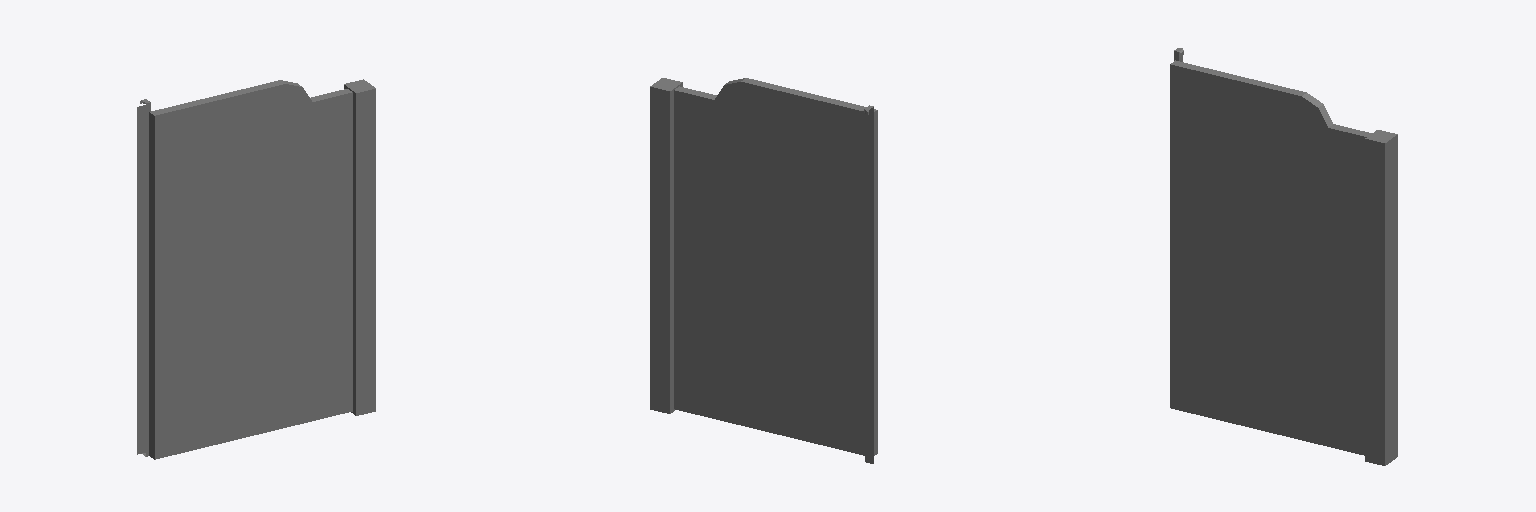
The model's file is Puerta1.obj.
3 renders of one model, left to right at view 1: azimuth 30°, elevation 25°; view 2: azimuth 150°, elevation 25°; view 3: azimuth 330°, elevation 25°, orthographic.
Parts seen in each view (by area): view 1: Cube.000_Cube.006; view 2: Cube.000_Cube.006; view 3: Cube.000_Cube.006.
Part boxes in pixels (bbox=[...]): Cube.000_Cube.006: bbox=[137, 79, 375, 459]; Cube.000_Cube.006: bbox=[650, 78, 877, 463]; Cube.000_Cube.006: bbox=[1170, 48, 1397, 465].
Bounding box in the file's own units: 1.72 × 2.59 × 0.2002.